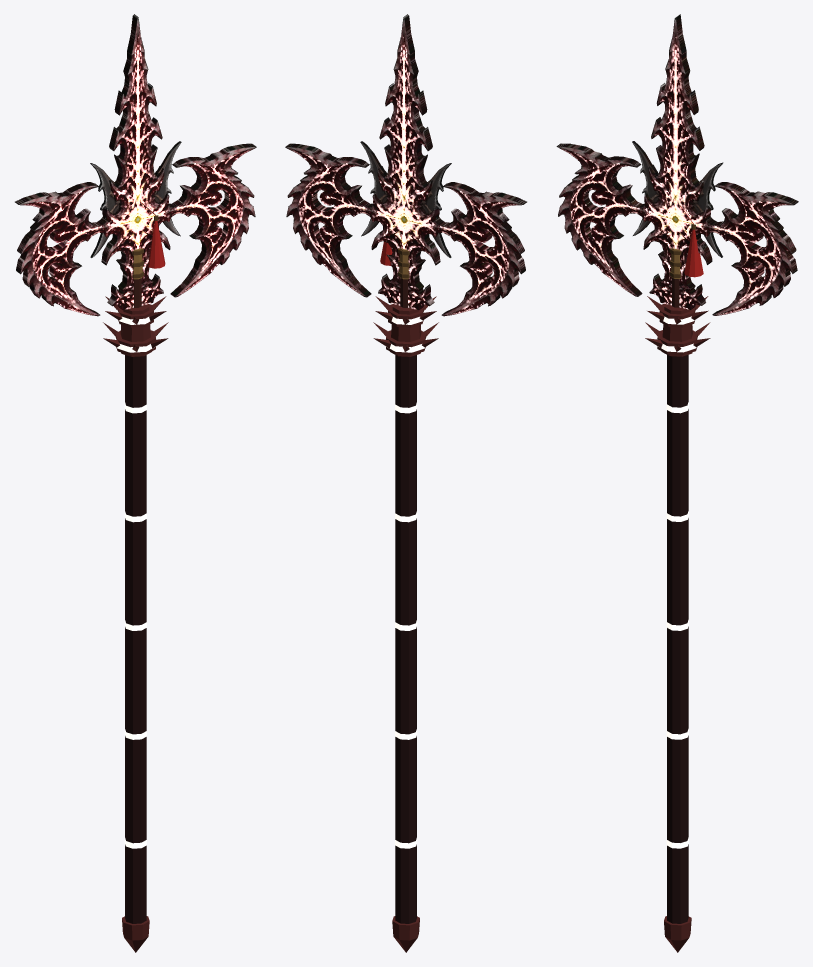
File: lubu-props.glb
The picture shows the model from 3 angles, left to right: view 1: azimuth 30°, elevation 25°; view 2: azimuth 150°, elevation 25°; view 3: azimuth 330°, elevation 25°; orthographic projection.
Visible parts, largest first — view 1: prop_demon_halberd_head, prop_demon_halberd, prop_halberd_head, prop_halberd; view 2: prop_demon_halberd_head, prop_demon_halberd, prop_halberd_head, prop_halberd; view 3: prop_demon_halberd_head, prop_demon_halberd, prop_halberd_head, prop_halberd.
Boxes of the visible parts, <box> form: prop_demon_halberd_head: <box>15,14,256,316</box>; prop_demon_halberd: <box>103,296,168,952</box>; prop_halberd_head: <box>90,141,181,268</box>; prop_halberd: <box>132,248,143,307</box>; prop_demon_halberd_head: <box>285,14,526,316</box>; prop_demon_halberd: <box>373,296,438,952</box>; prop_halberd_head: <box>360,141,451,265</box>; prop_halberd: <box>398,248,409,307</box>; prop_demon_halberd_head: <box>556,14,798,315</box>; prop_demon_halberd: <box>645,296,710,952</box>; prop_halberd_head: <box>632,141,723,277</box>; prop_halberd: <box>669,248,681,307</box>.
Size of the model in its own units: 1.12 by 4.2 by 0.2693.
Materials: 4 (4 with a texture image).
